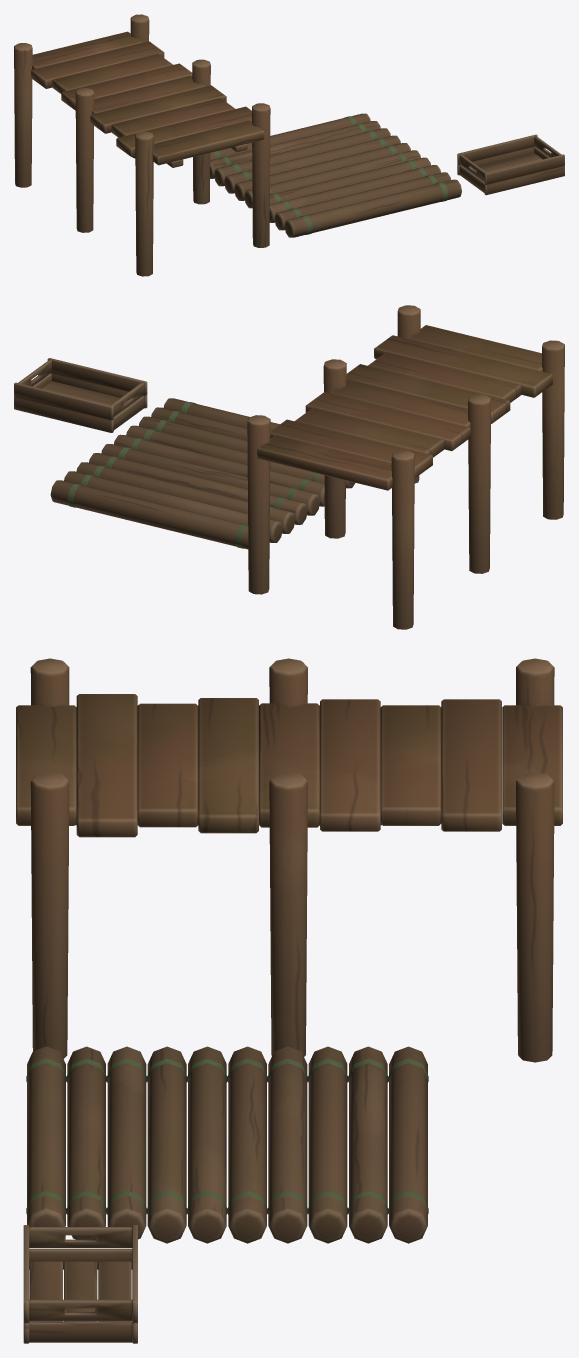
File: Raft.fbx
3 views of the same model, one above another, from view 1: azimuth 30°, elevation 25°; view 2: azimuth 150°, elevation 25°; view 3: azimuth 270°, elevation 25° (orthographic). The views are drawn at different scales.
Visible parts, largest first — view 1: Cylinder.014, Cylinder.019, Cube.005; view 2: Cylinder.014, Cylinder.019, Cube.005; view 3: Cylinder.014, Cylinder.019, Cube.005.
Boxes of the visible parts, box(x1,y1,x2,y2) form: Cylinder.014: box(14, 14, 270, 276); Cylinder.019: box(210, 113, 461, 237); Cube.005: box(457, 134, 564, 195); Cylinder.014: box(247, 305, 564, 629); Cylinder.019: box(50, 398, 355, 549); Cube.005: box(14, 358, 147, 432); Cylinder.014: box(16, 658, 562, 1062); Cylinder.019: box(26, 1046, 428, 1243); Cube.005: box(23, 1225, 137, 1343).
Size of the model in its own units: 996 by 311 by 558.
Materials: 1 (1 with a texture image).
